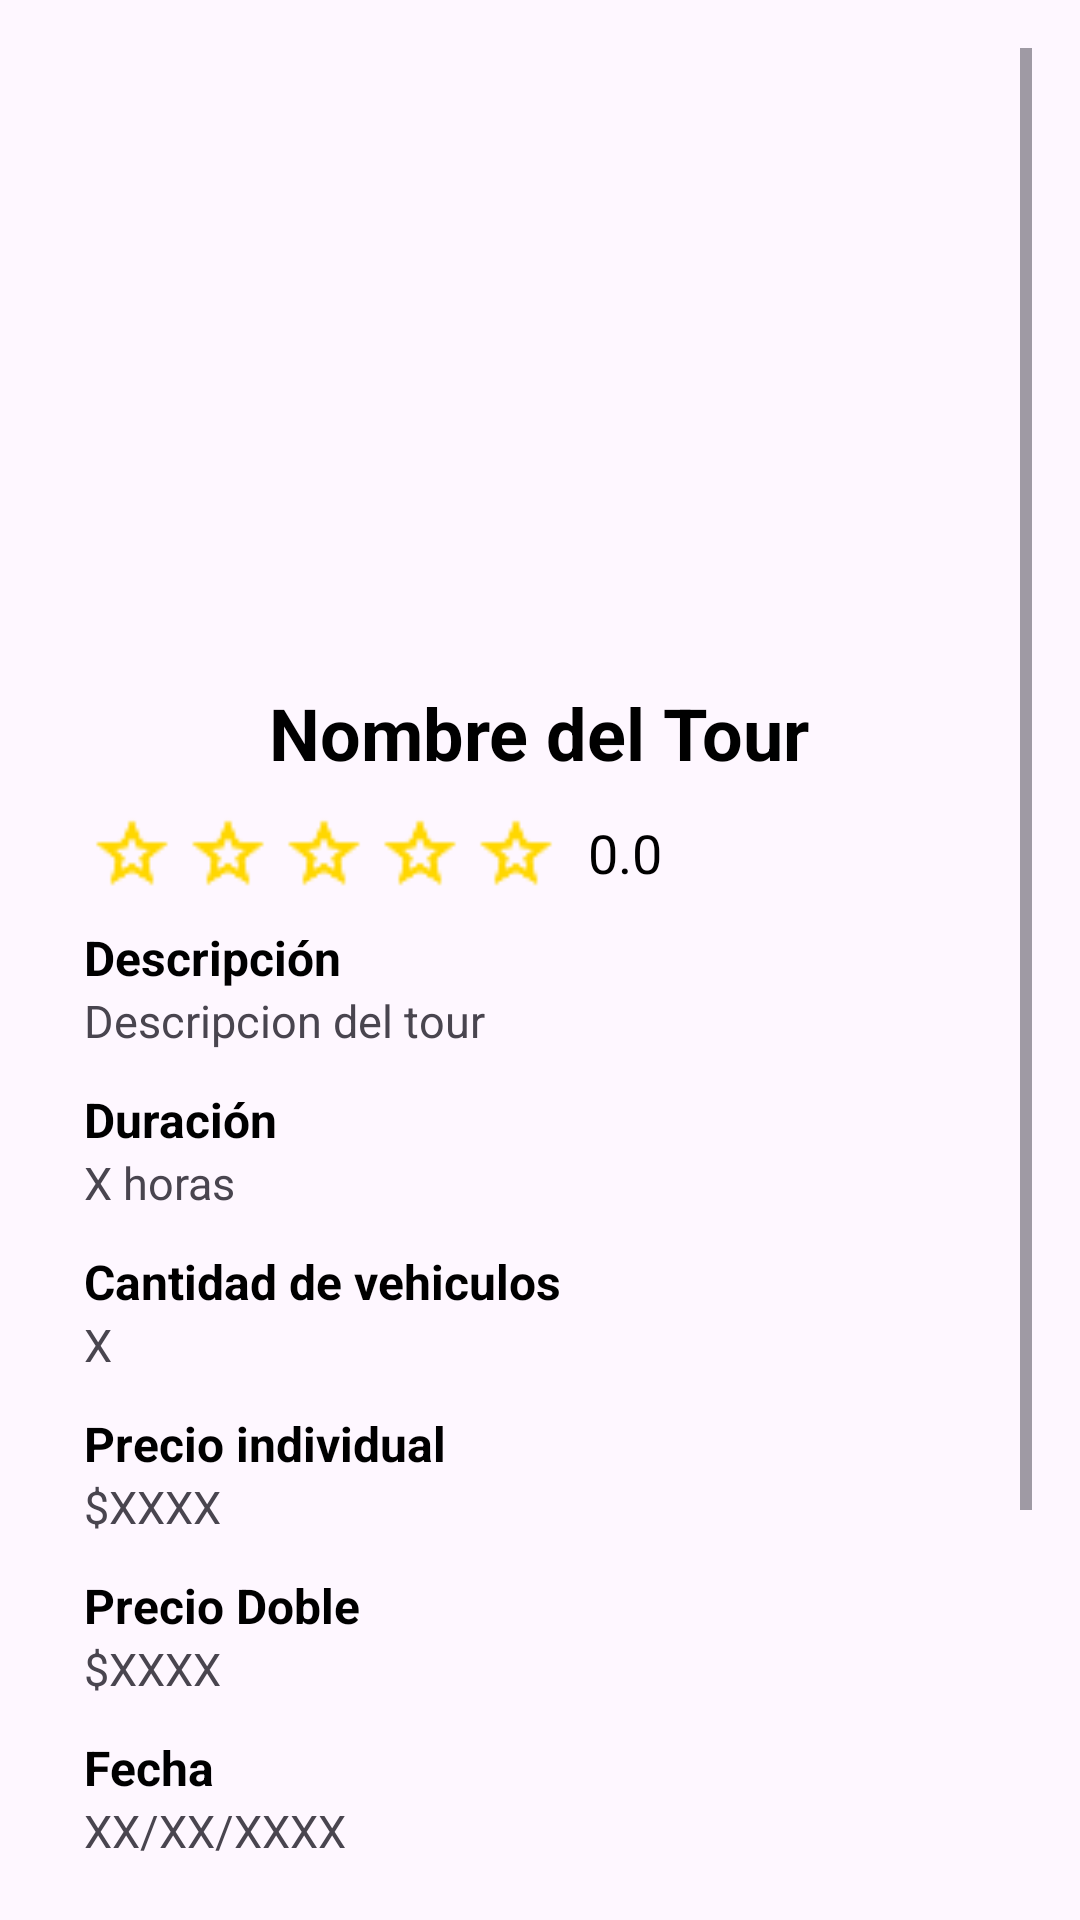

Screen size 1080px x 1920px. Icon name, then its box in pixels as box(x1, y1, x2, y2):
star empty: box(96, 820, 168, 886), box(192, 820, 264, 886), box(288, 820, 360, 886), box(384, 820, 456, 886), box(480, 820, 552, 886)
